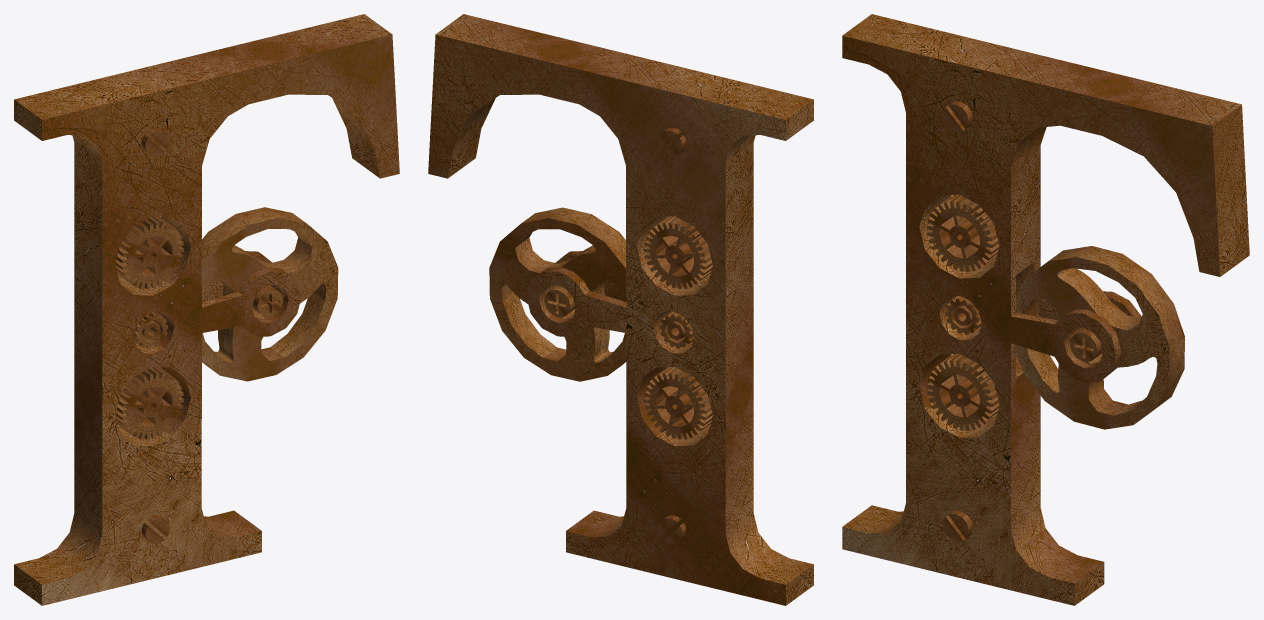
3 views of the same model, side by side, from view 1: azimuth 30°, elevation 25°; view 2: azimuth 150°, elevation 25°; view 3: azimuth 330°, elevation 25° (orthographic). The views are drawn at different scales.
Visible parts, largest first — view 1: F, Cogwheel_410, Cogwheel_323, Cogwheel_318, Cogwheel_325, Screw_855, Screw_850, Screw_844; view 2: F, Cogwheel_410, Cogwheel_323, Cogwheel_318, Cogwheel_325, Screw_855, Screw_850, Screw_844; view 3: F, Cogwheel_410, Cogwheel_323, Cogwheel_318, Cogwheel_325, Screw_855, Screw_850, Screw_844.
Part boxes in pixels (<box>): F: <box>14,14,399,605</box>; Cogwheel_410: <box>202,207,338,381</box>; Cogwheel_323: <box>115,216,183,289</box>; Cogwheel_318: <box>115,367,183,439</box>; Cogwheel_325: <box>134,311,167,348</box>; Screw_855: <box>252,285,283,317</box>; Screw_850: <box>141,515,169,543</box>; Screw_844: <box>141,127,169,156</box>; F: <box>428,14,813,605</box>; Cogwheel_410: <box>489,207,626,381</box>; Cogwheel_323: <box>644,216,712,289</box>; Cogwheel_318: <box>644,367,712,439</box>; Cogwheel_325: <box>659,311,693,348</box>; Screw_855: <box>544,285,575,317</box>; Screw_850: <box>658,515,686,543</box>; Screw_844: <box>658,127,686,156</box>; F: <box>842,14,1249,605</box>; Cogwheel_410: <box>1016,246,1184,429</box>; Cogwheel_323: <box>927,194,999,271</box>; Cogwheel_318: <box>927,354,999,430</box>; Cogwheel_325: <box>945,296,981,334</box>; Screw_855: <box>1070,328,1102,361</box>; Screw_850: <box>943,510,972,541</box>; Screw_844: <box>943,101,972,131</box>.
Size of the model in its own units: 73.72 by 95.73 by 12.89.
Materials: 1 (1 with a texture image).
